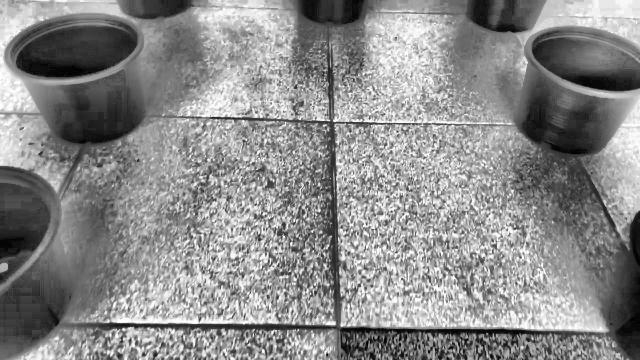pot: (1, 12, 148, 146), (514, 26, 640, 156)
